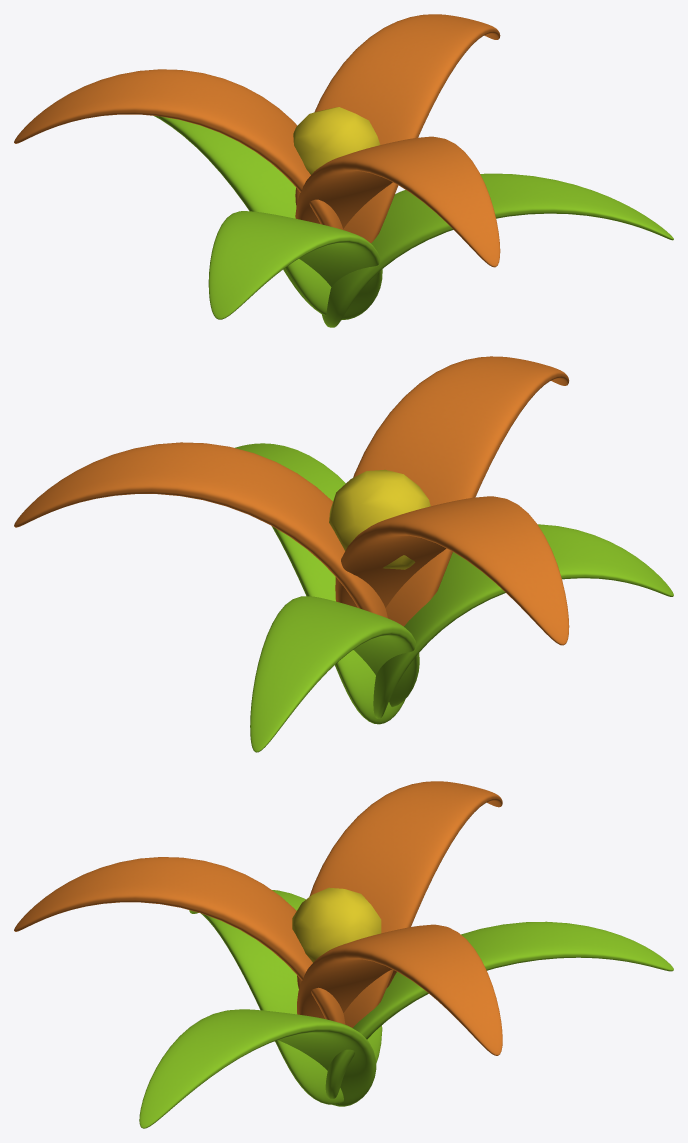
File: SandyAmaryllis.fbx
The picture shows the model from 3 angles, top to bottom: view 1: azimuth 30°, elevation 25°; view 2: azimuth 150°, elevation 25°; view 3: azimuth 270°, elevation 25°; orthographic projection. The views are drawn at different scales.
Visible parts, largest first — view 1: SandyAmaryllis; view 2: SandyAmaryllis; view 3: SandyAmaryllis.
Part boxes in pixels (bbox=[...]): SandyAmaryllis: bbox=[14, 14, 673, 327]; SandyAmaryllis: bbox=[14, 356, 673, 752]; SandyAmaryllis: bbox=[14, 781, 673, 1128].
Size of the model in its own units: 331 by 157 by 388.
1 material, 1 textured.
